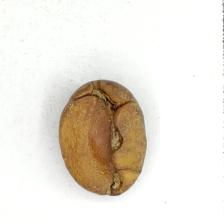NG: (74, 89, 140, 187)
